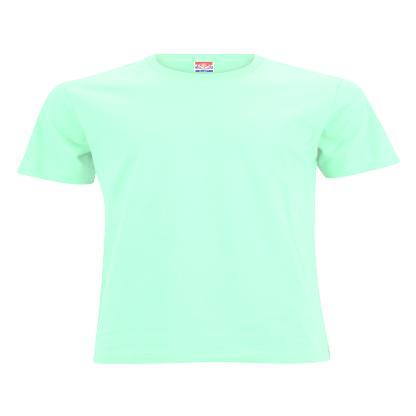dress: (24, 49, 398, 364)
